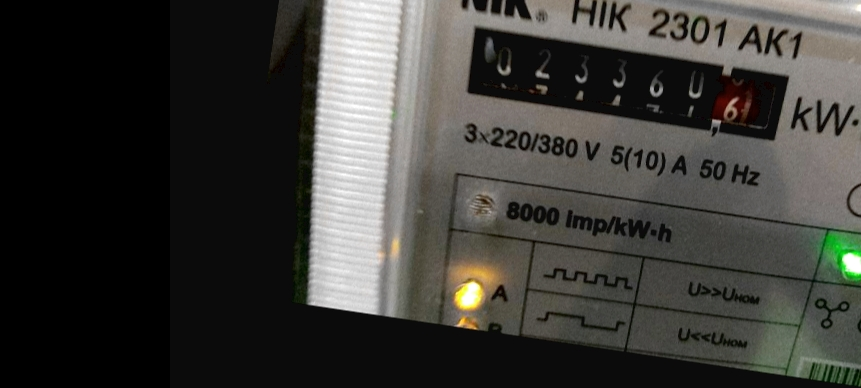0: (490, 40, 517, 78), (681, 64, 708, 102)
2: (530, 44, 556, 82)
3: (568, 50, 593, 87), (607, 54, 630, 91)
6: (643, 63, 668, 99), (718, 89, 741, 124)
screen: (447, 12, 809, 161)
